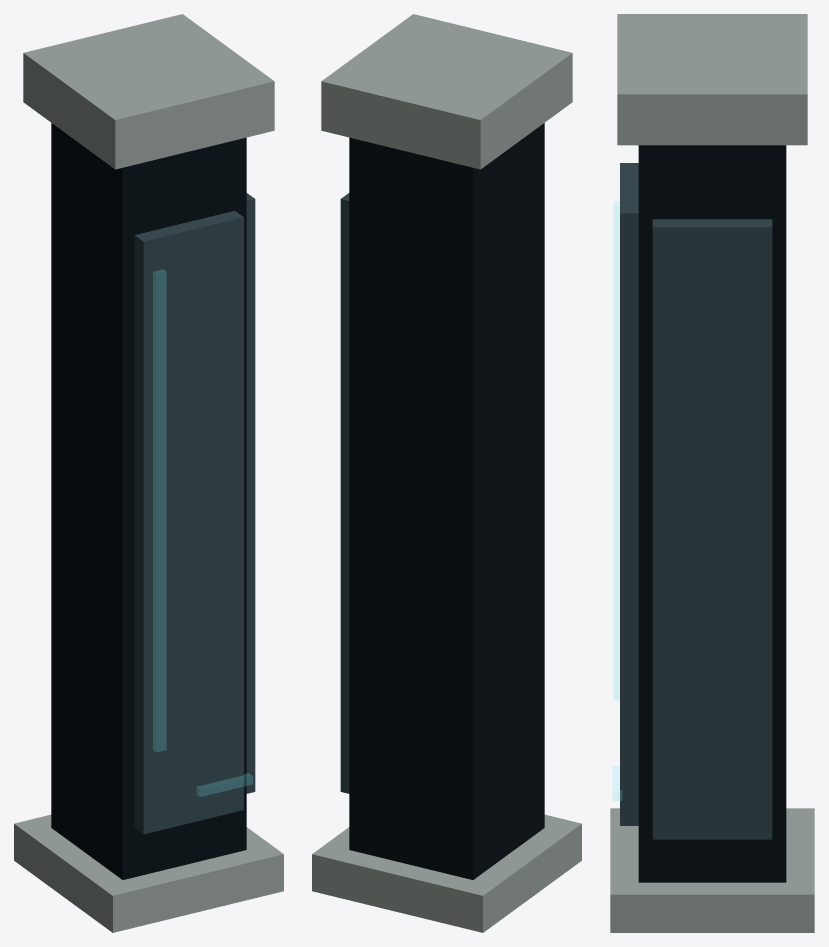
The model's file is hp_room_corner_pillar_maintenance.glb.
3 views of the same model, side by side, from view 1: azimuth 30°, elevation 25°; view 2: azimuth 150°, elevation 25°; view 3: azimuth 270°, elevation 25° (orthographic). The views are drawn at different scales.
Visible parts, largest first — view 1: maintenance_corner_pillar_core, maintenance_corner_pillar_front_plate, maintenance_corner_pillar_top_cap, maintenance_corner_pillar_floor_cap, maintenance_corner_pillar_vertical_light, maintenance_corner_pillar_side_plate, maintenance_corner_pillar_low_status; view 2: maintenance_corner_pillar_core, maintenance_corner_pillar_top_cap, maintenance_corner_pillar_floor_cap, maintenance_corner_pillar_side_plate; view 3: maintenance_corner_pillar_side_plate, maintenance_corner_pillar_core, maintenance_corner_pillar_top_cap, maintenance_corner_pillar_floor_cap, maintenance_corner_pillar_front_plate, maintenance_corner_pillar_vertical_light.
Part boxes in pixels (x1,y1,x2,y2): maintenance_corner_pillar_core: [51, 123, 246, 879]; maintenance_corner_pillar_front_plate: [134, 210, 243, 834]; maintenance_corner_pillar_top_cap: [23, 14, 274, 169]; maintenance_corner_pillar_floor_cap: [14, 814, 283, 932]; maintenance_corner_pillar_vertical_light: [153, 270, 166, 751]; maintenance_corner_pillar_side_plate: [246, 193, 255, 793]; maintenance_corner_pillar_low_status: [197, 773, 252, 796]; maintenance_corner_pillar_core: [349, 123, 544, 879]; maintenance_corner_pillar_top_cap: [321, 14, 572, 169]; maintenance_corner_pillar_floor_cap: [312, 814, 581, 932]; maintenance_corner_pillar_side_plate: [340, 193, 349, 793]; maintenance_corner_pillar_side_plate: [652, 219, 772, 839]; maintenance_corner_pillar_core: [638, 145, 786, 882]; maintenance_corner_pillar_top_cap: [617, 14, 807, 145]; maintenance_corner_pillar_floor_cap: [610, 808, 814, 932]; maintenance_corner_pillar_front_plate: [620, 163, 638, 825]; maintenance_corner_pillar_vertical_light: [614, 201, 619, 700].
Size of the model in its own units: 0.58 by 2.62 by 0.58.
